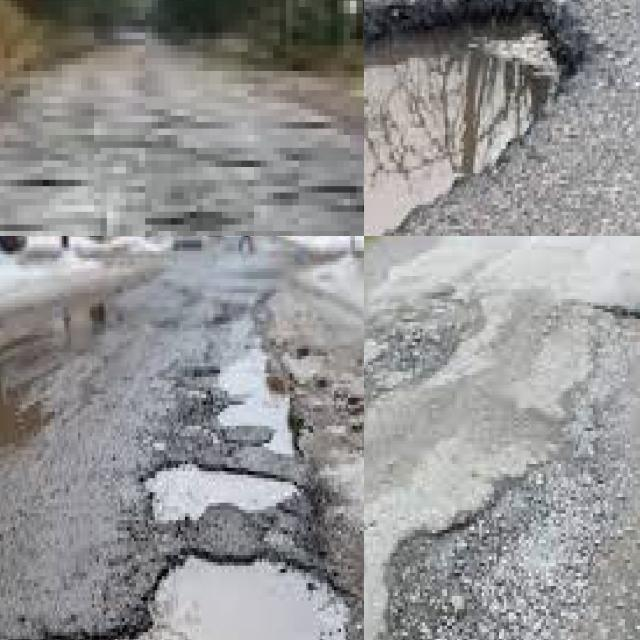Pothole: (388, 312, 640, 640), (364, 9, 562, 236), (121, 555, 348, 640), (150, 464, 294, 520), (218, 356, 292, 454)
